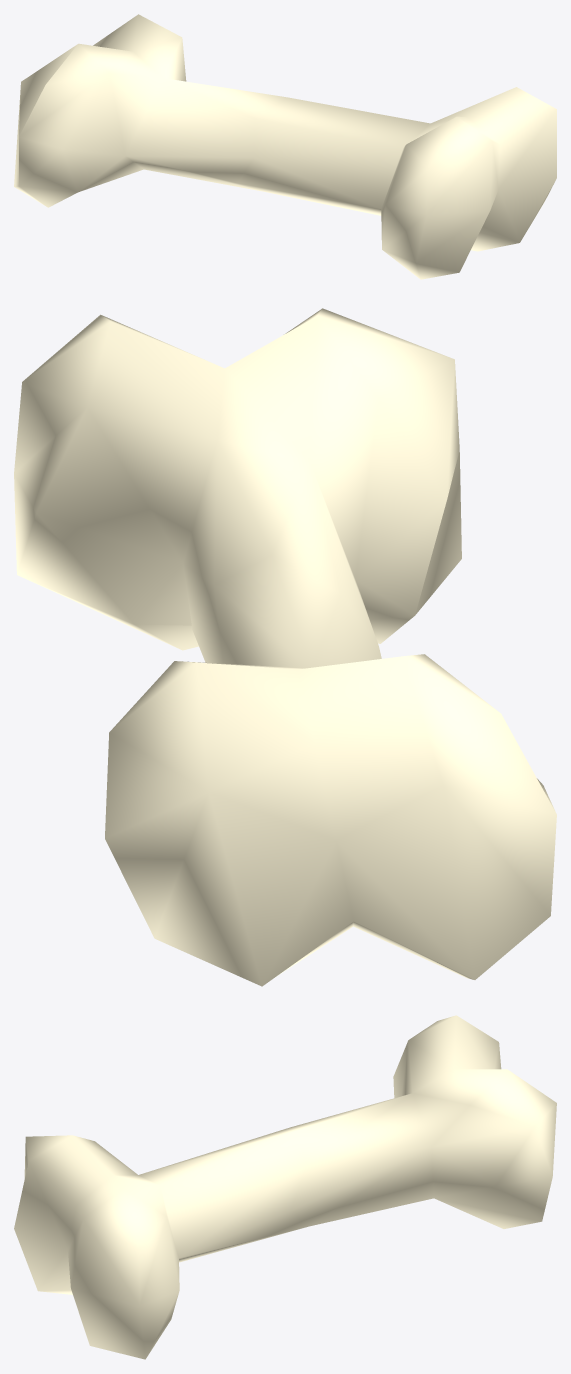
File: Bone.glb
3 renders of one model, top to bottom at view 1: azimuth 30°, elevation 25°; view 2: azimuth 150°, elevation 25°; view 3: azimuth 270°, elevation 25°, orthographic. The views are drawn at different scales.
Visible parts, largest first — view 1: Bone; view 2: Bone; view 3: Bone.
Part boxes in pixels (<box>): Bone: <box>14,14,556,279</box>; Bone: <box>14,308,556,986</box>; Bone: <box>14,1015,556,1359</box>.
Size of what is drawn, in the model's own units: 0.3342 by 0.1305 by 0.3398.
1 material, 1 textured.
